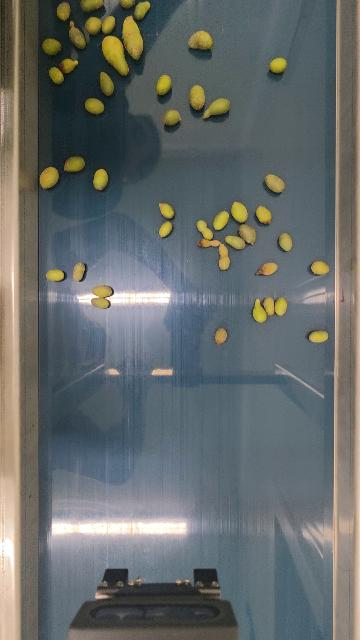Baby Potato: (100, 34, 133, 77), (120, 15, 145, 60), (187, 27, 216, 52), (201, 97, 231, 120), (67, 22, 88, 49), (188, 84, 207, 111), (39, 166, 60, 190), (264, 172, 286, 194), (98, 71, 115, 97), (238, 222, 257, 245), (41, 37, 63, 56), (63, 155, 86, 173), (155, 73, 173, 96), (252, 297, 267, 324), (231, 201, 249, 223), (84, 14, 102, 36), (217, 243, 231, 271), (92, 168, 109, 191), (196, 219, 214, 240), (213, 209, 230, 231), (256, 260, 279, 276), (91, 283, 114, 299), (224, 234, 247, 250), (133, 0, 151, 20), (85, 97, 105, 115), (255, 204, 272, 225), (56, 0, 72, 22), (269, 56, 288, 74), (163, 108, 182, 126), (71, 261, 87, 282), (262, 295, 276, 318), (310, 260, 330, 276), (278, 231, 293, 252), (101, 14, 116, 35), (308, 329, 329, 344), (79, 0, 105, 12), (48, 66, 64, 85), (60, 58, 79, 74), (274, 295, 288, 316), (159, 202, 175, 220), (45, 268, 65, 282), (158, 220, 173, 238), (214, 326, 228, 345), (91, 296, 111, 309), (197, 238, 220, 248), (118, 0, 138, 9)
